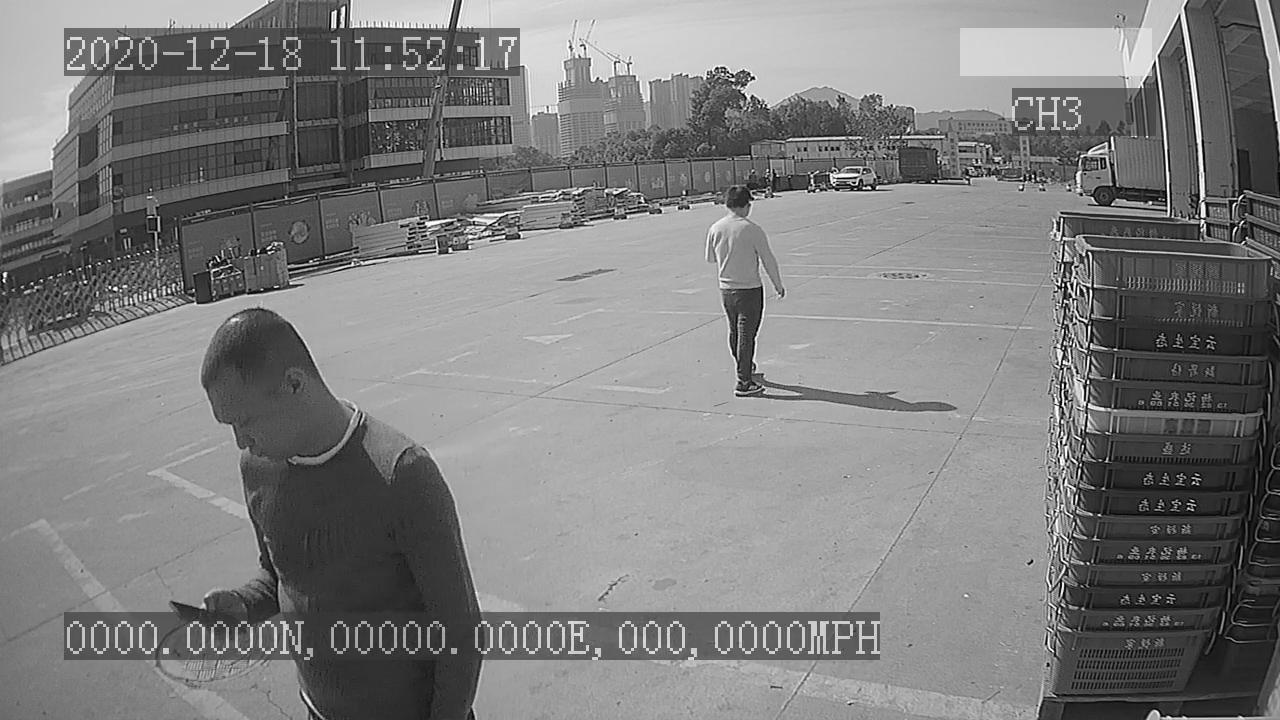person: (702, 181, 788, 401)
